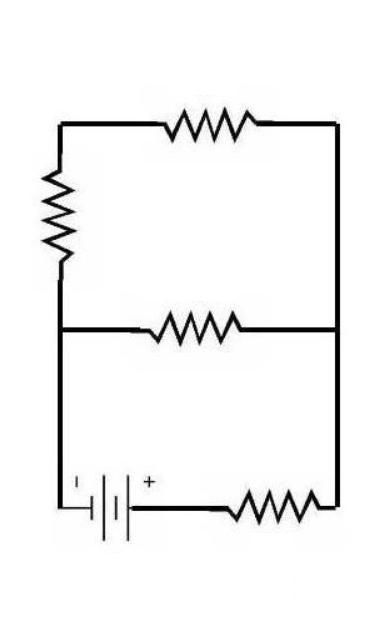resistor: (18, 147, 102, 292), (146, 82, 273, 167), (129, 278, 276, 345), (210, 478, 336, 525)
